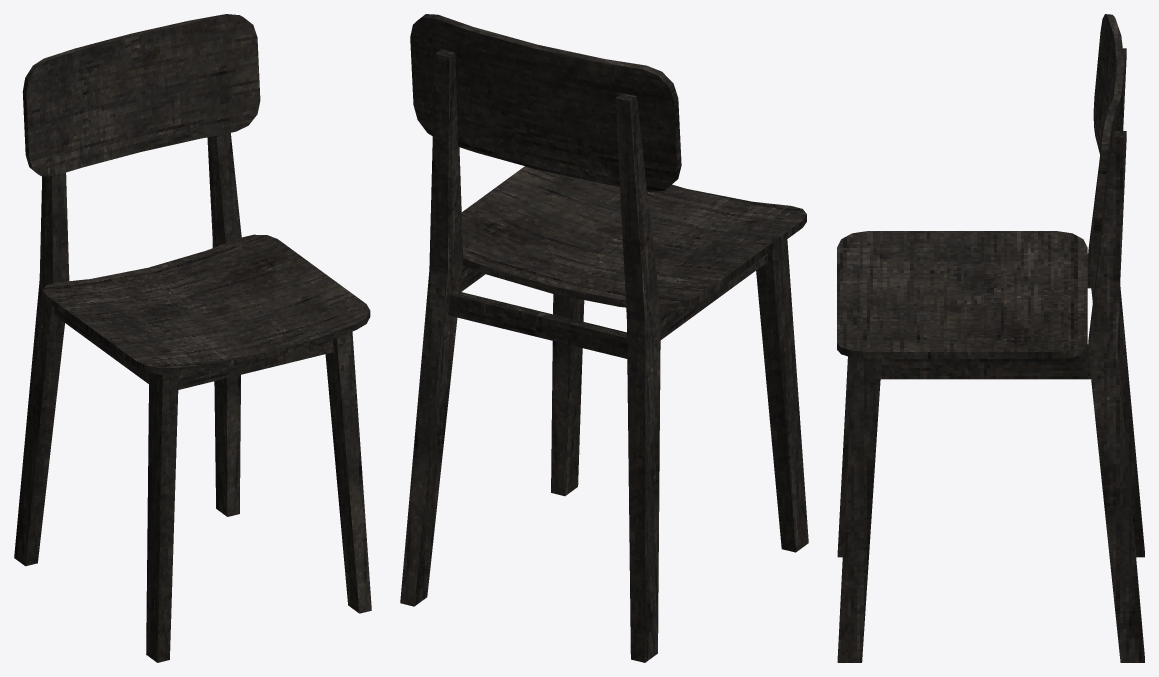
The model's file is chair_mp_3.glb.
3 views of the same model, side by side, from view 1: azimuth 30°, elevation 25°; view 2: azimuth 150°, elevation 25°; view 3: azimuth 270°, elevation 25° (orthographic). The views are drawn at different scales.
Parts seen in each view (by area): view 1: chair_mp_3; view 2: chair_mp_3; view 3: chair_mp_3.
Part boxes in pixels (bbox=[...]): chair_mp_3: bbox=[14, 14, 371, 662]; chair_mp_3: bbox=[400, 14, 808, 662]; chair_mp_3: bbox=[837, 14, 1144, 662].
Size of the model in its own units: 0.4763 by 0.9967 by 0.5126.
1 material, 1 textured.
